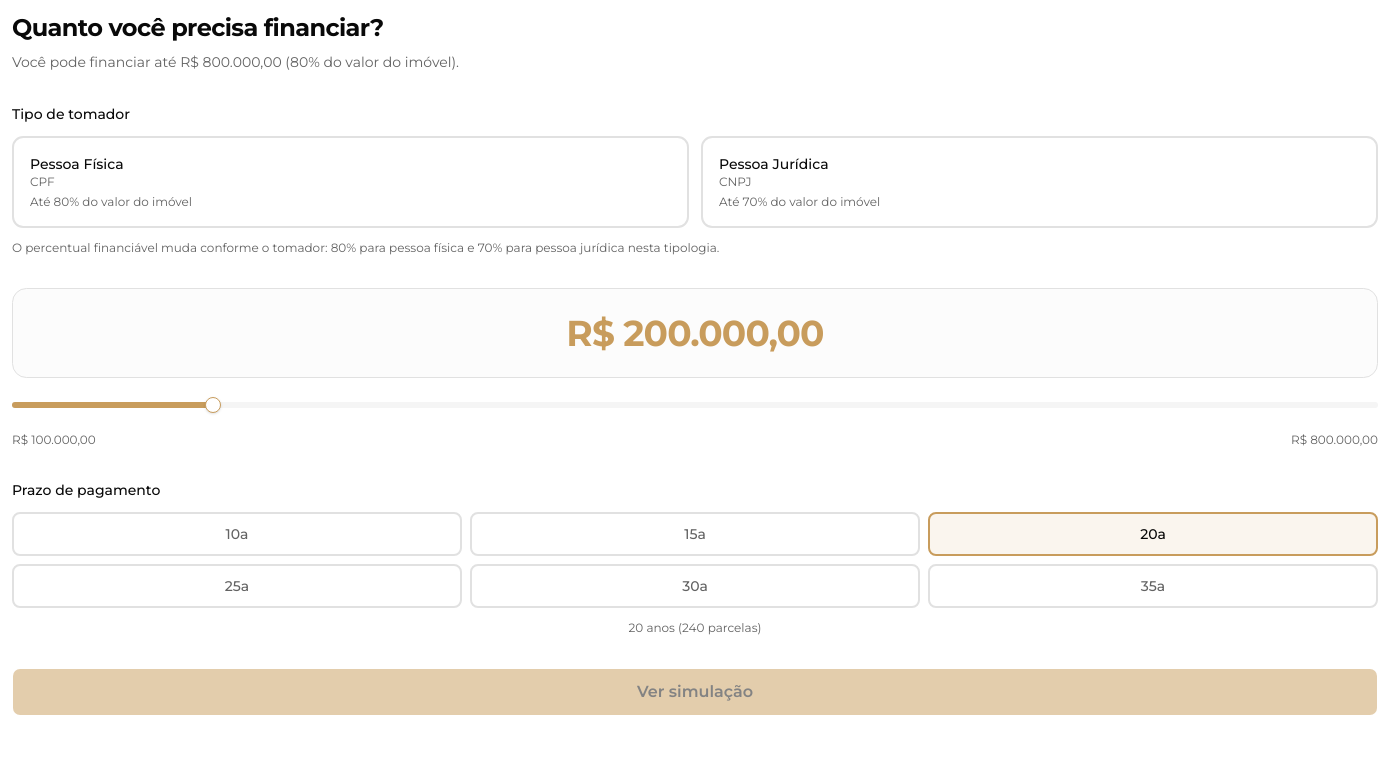
it: FI Step 4 — LTV muda conforme PF/PJ › casa: PF financia até 80% e PJ até 70% do mesmo imóvel
Click the text "Pessoa Física": {"x": 77, "y": 164} [30,155,124,173]
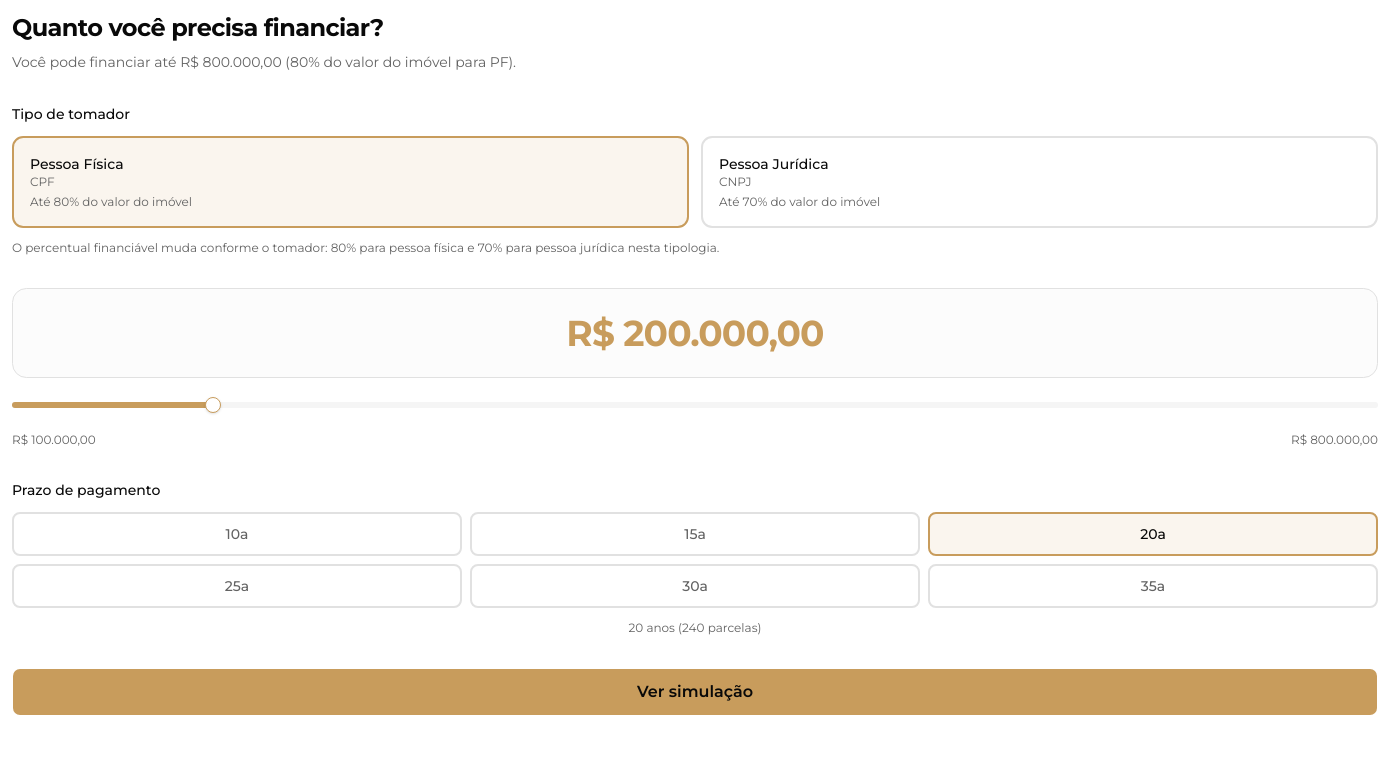
Result: the text "80% do valor do imóvel para PF" is shown at [12,53,516,71]
Click the text "Pessoa Jurídica": {"x": 774, "y": 164} [719,155,828,173]
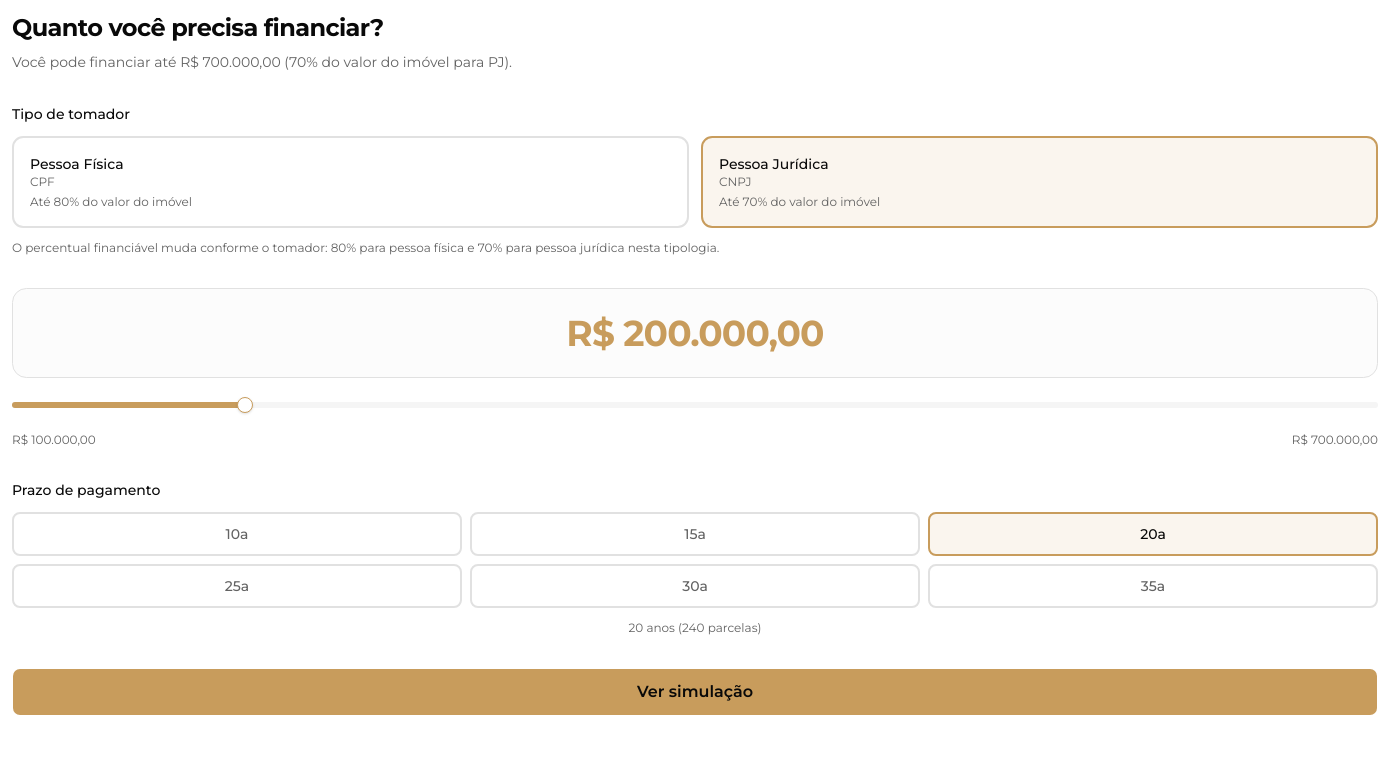
Result: the text "70% do valor do imóvel para PJ" is shown at [12,53,512,71]
